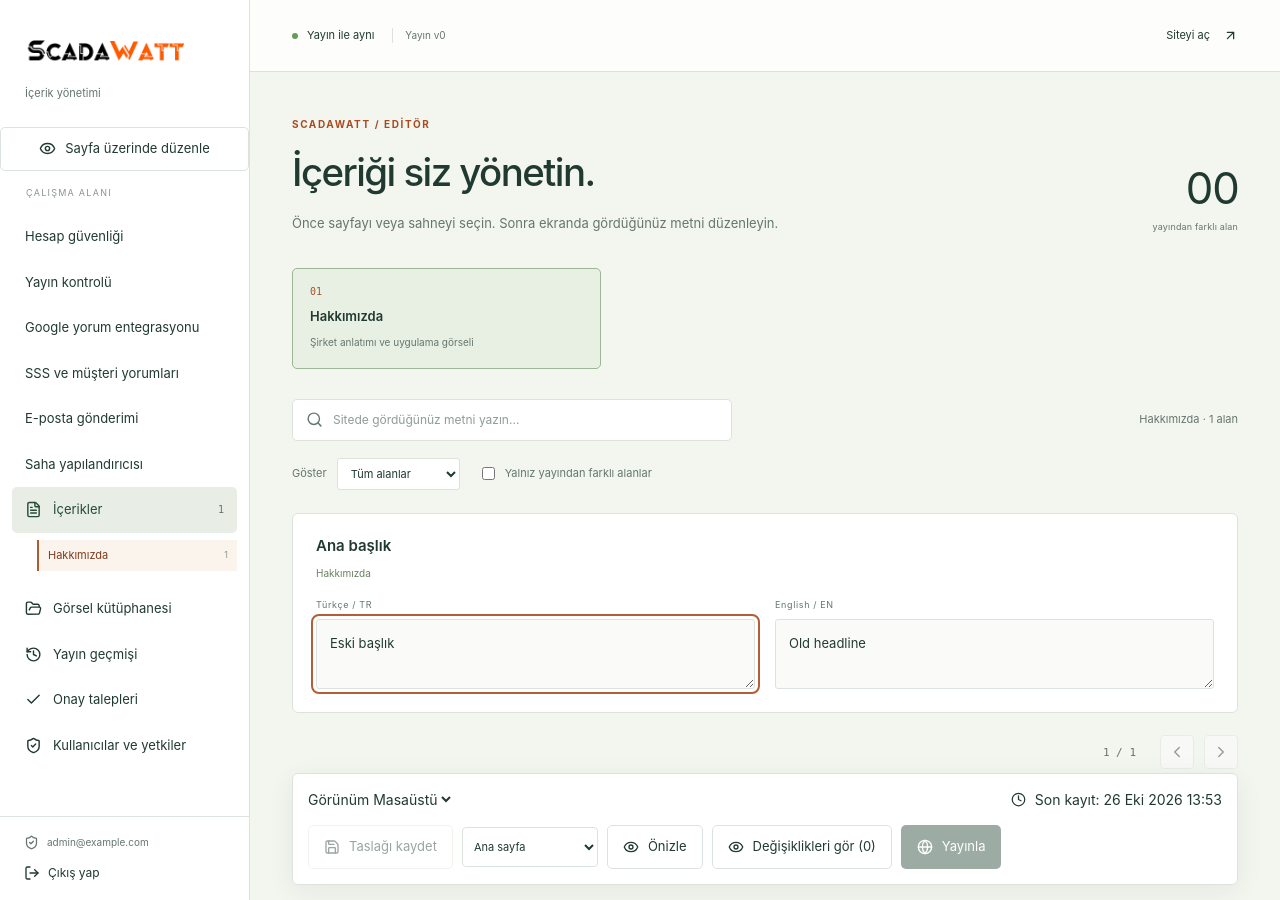
it: keeps edited bilingual text in a draft until a separate confirmed publish
The width and height of the screenshot is (1280, 900).
Expected: the heading "Ana başlık" is shown, [316,534,391,558]
Replace the text in the text box labelled "Türkçe / TR" with "Yeni başlık". click: (536, 654)
box: [316,619,755,689]
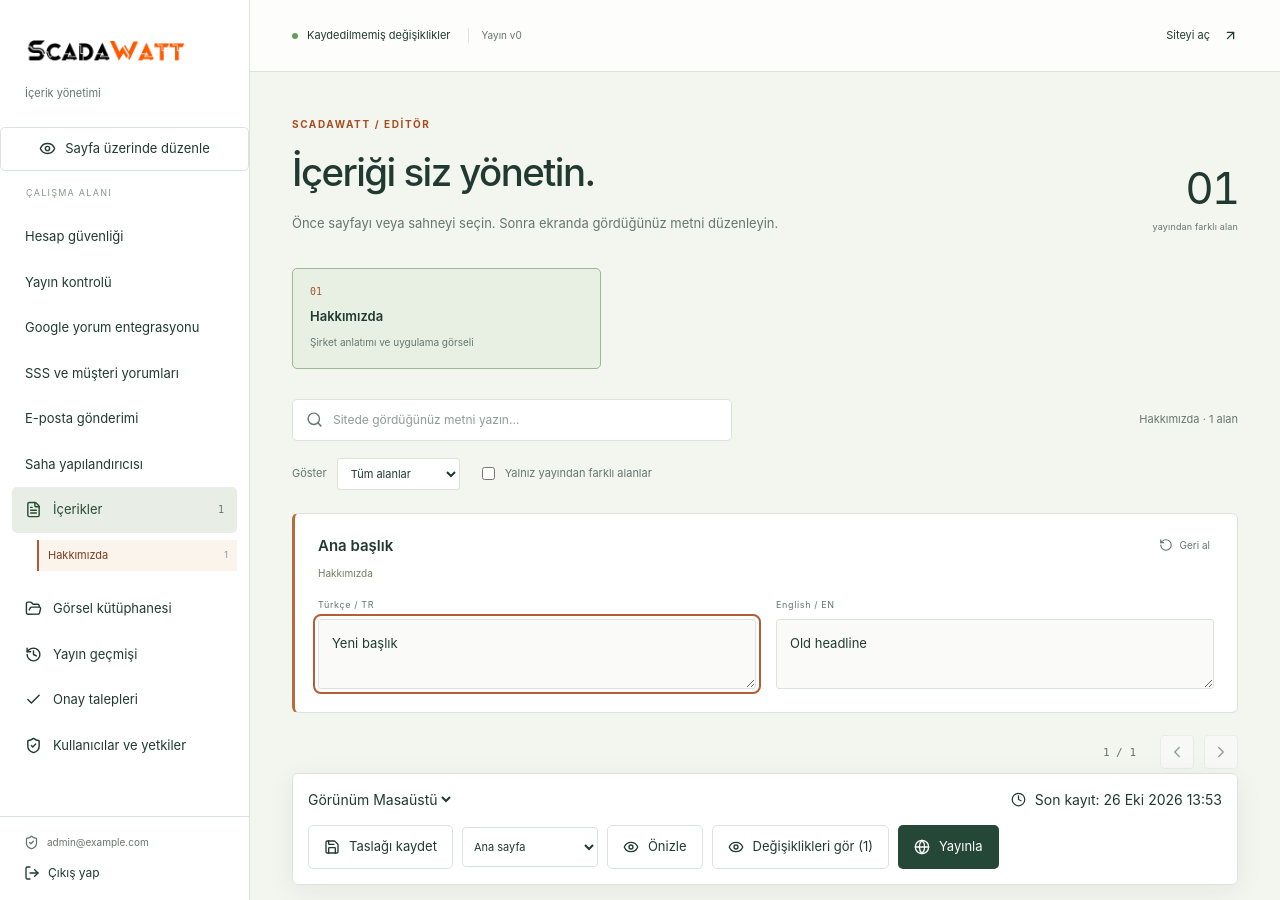
Replace the text in the text box labelled "English / EN" with "New headline". click: (995, 654)
box: [776,619,1214,689]
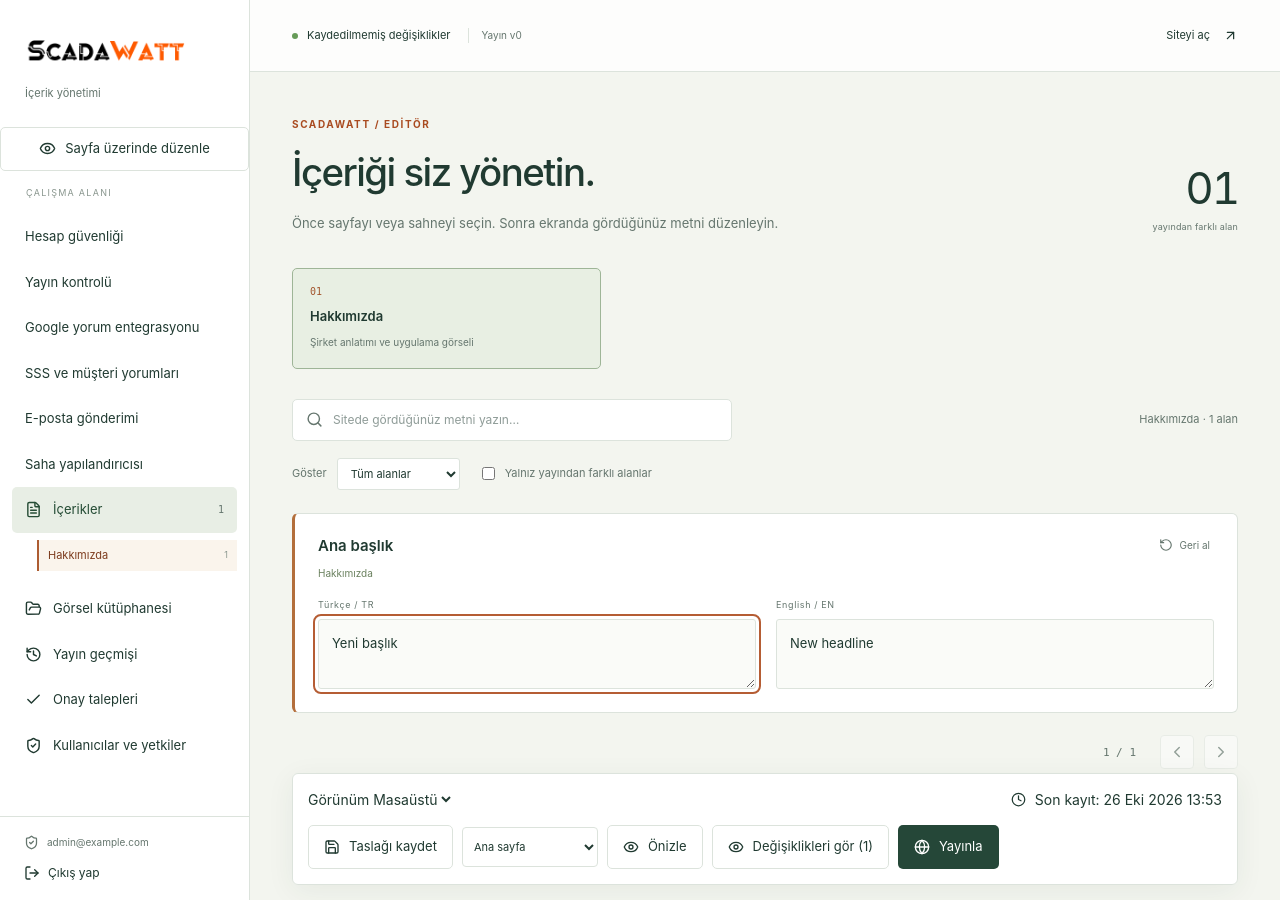
Click the button "Taslağı kaydet". click: click(380, 847)
box: [308,826,453,869]
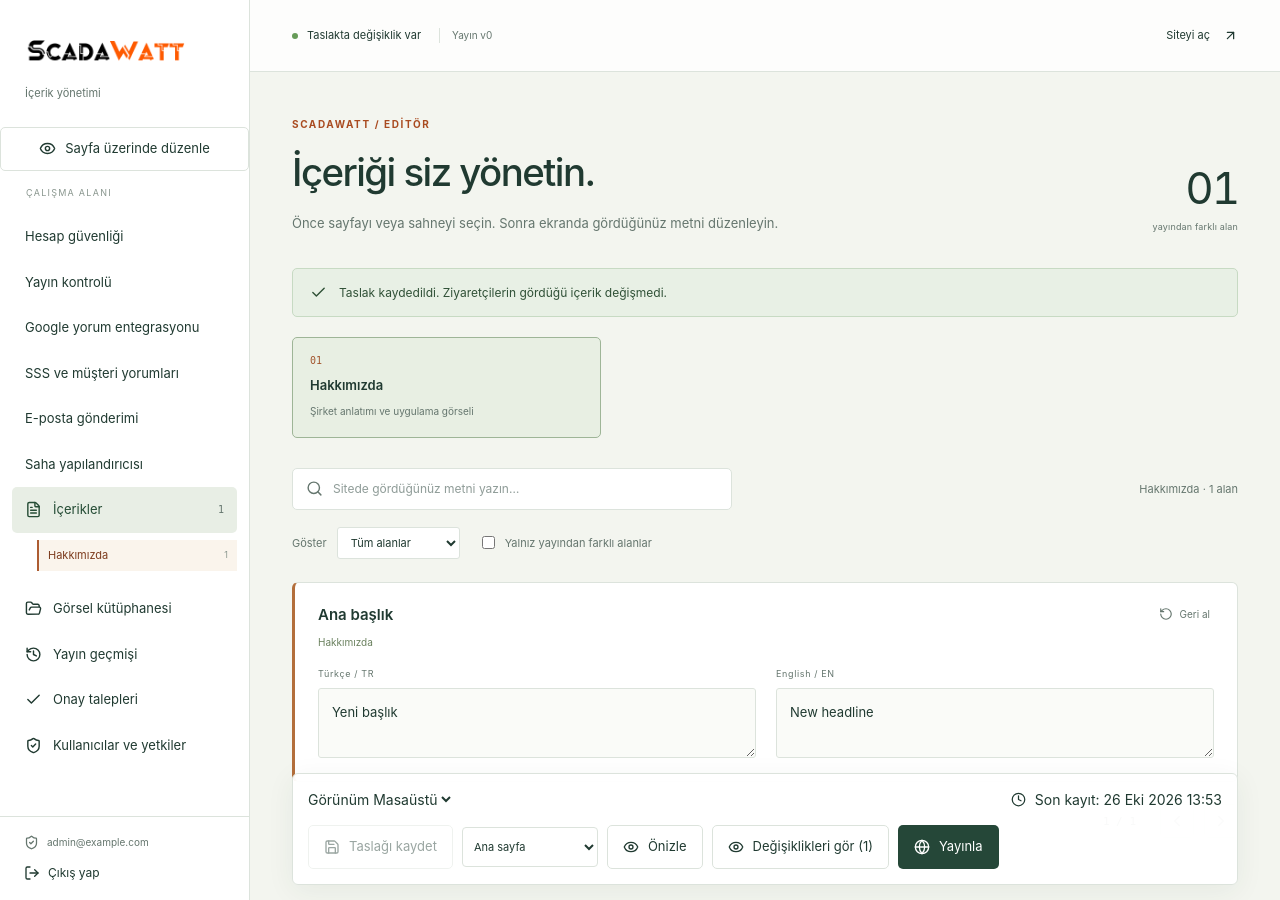
Now the text "Taslak kaydedildi. Ziyaretçilerin gördüğü içerik değişmedi." is shown, box [292,268,1238,317]
Click the button "Yayınla". click: click(948, 847)
box: [898,826,998,869]
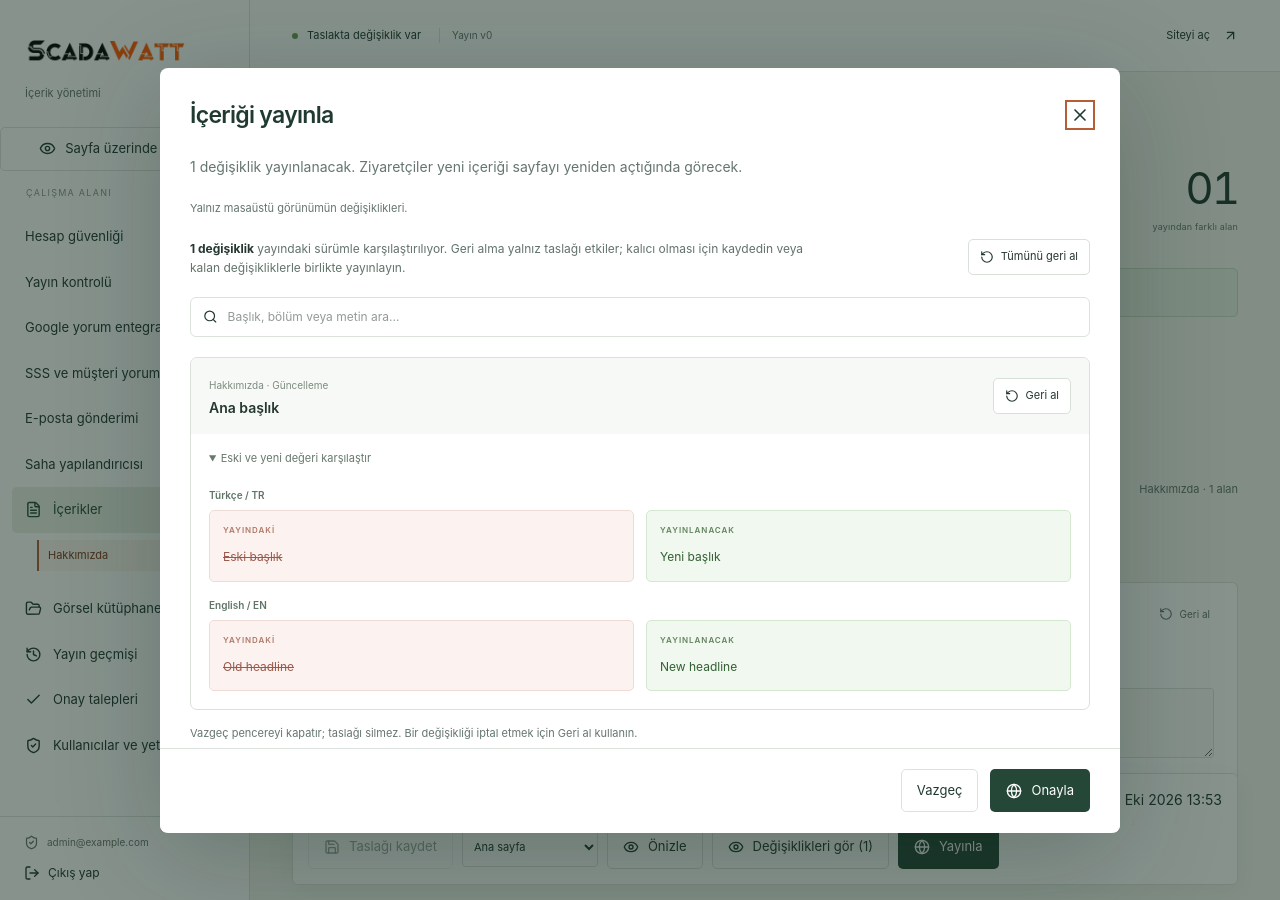
Now the dialog "İçeriği yayınla" is shown
Click the button "Onayla". click: click(1040, 791)
box: [990,769,1090,812]
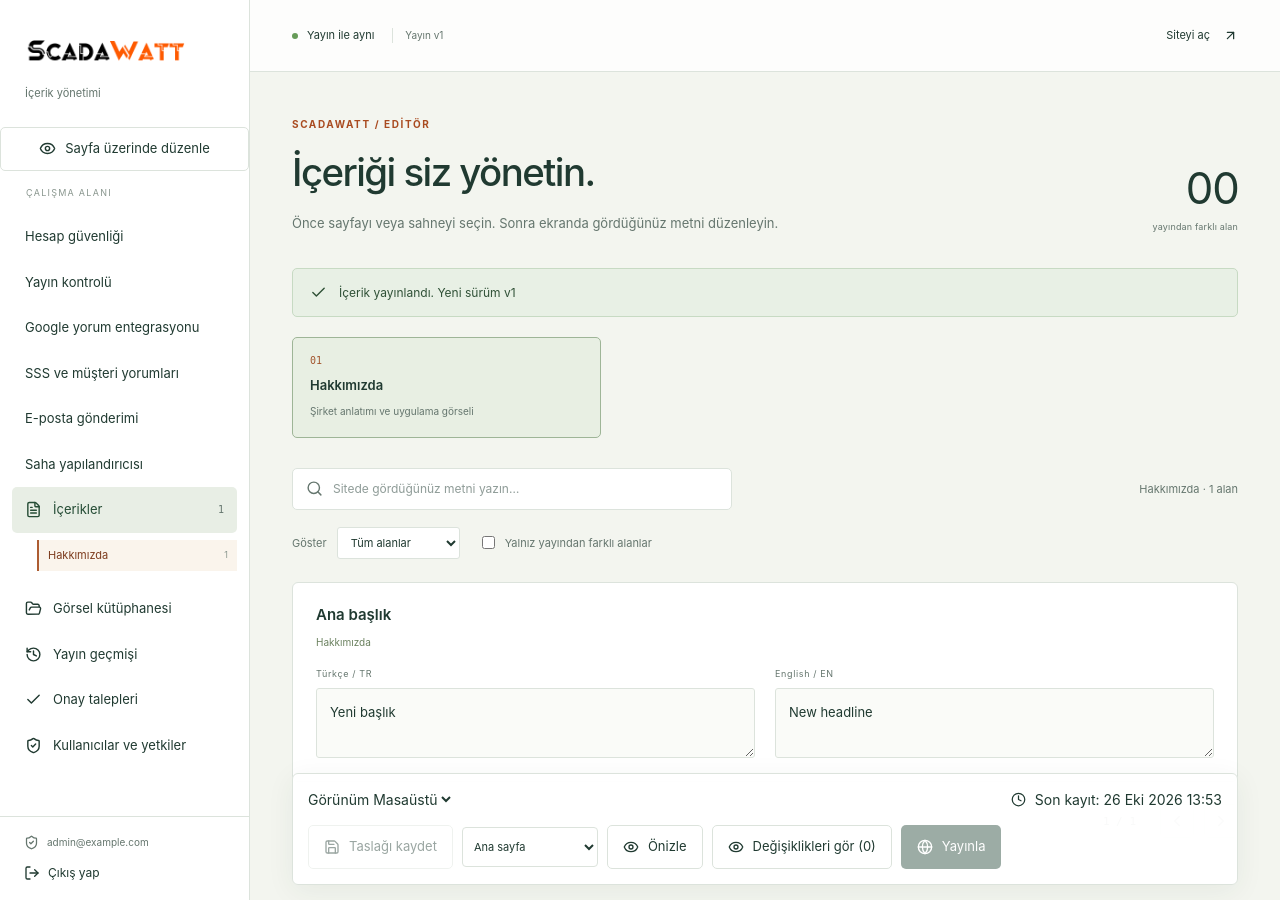
Now the text "İçerik yayınlandı. Yeni sürüm v1" is shown, box [292,268,1238,317]
